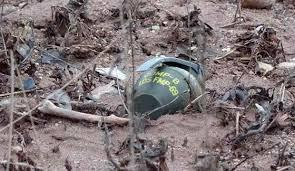Grenade: (127, 53, 202, 117)
